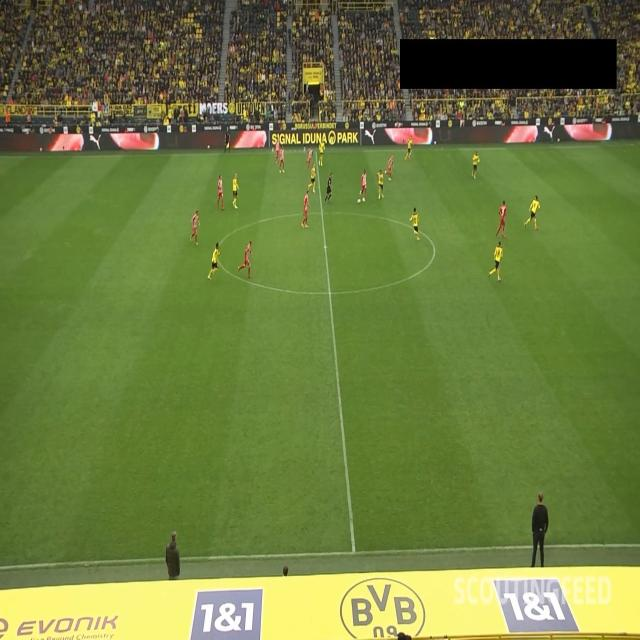ball: (357, 197, 361, 204)
